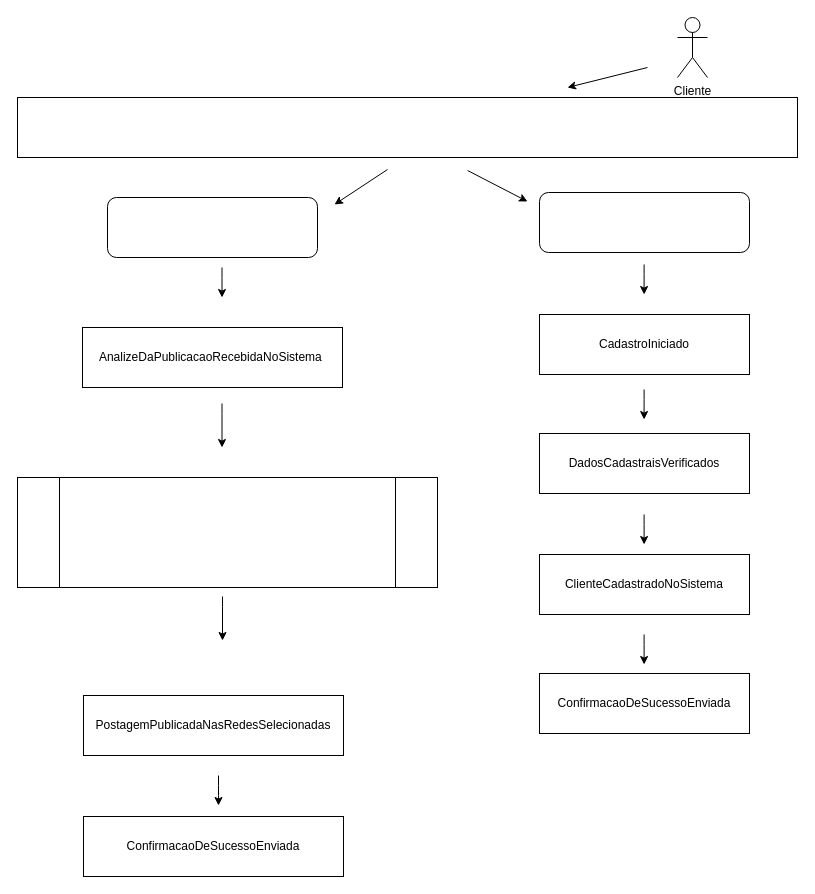
This 815x894 diagram has some shape labels left out. Each missing label, with the centre of its shape:
"Ayrshare" belongs at (227,532).
"CadastroSolicitado" belongs at (644,222).
"PostagemSolicitada" belongs at (212,227).
"Social M Sync" belongs at (407,127).
